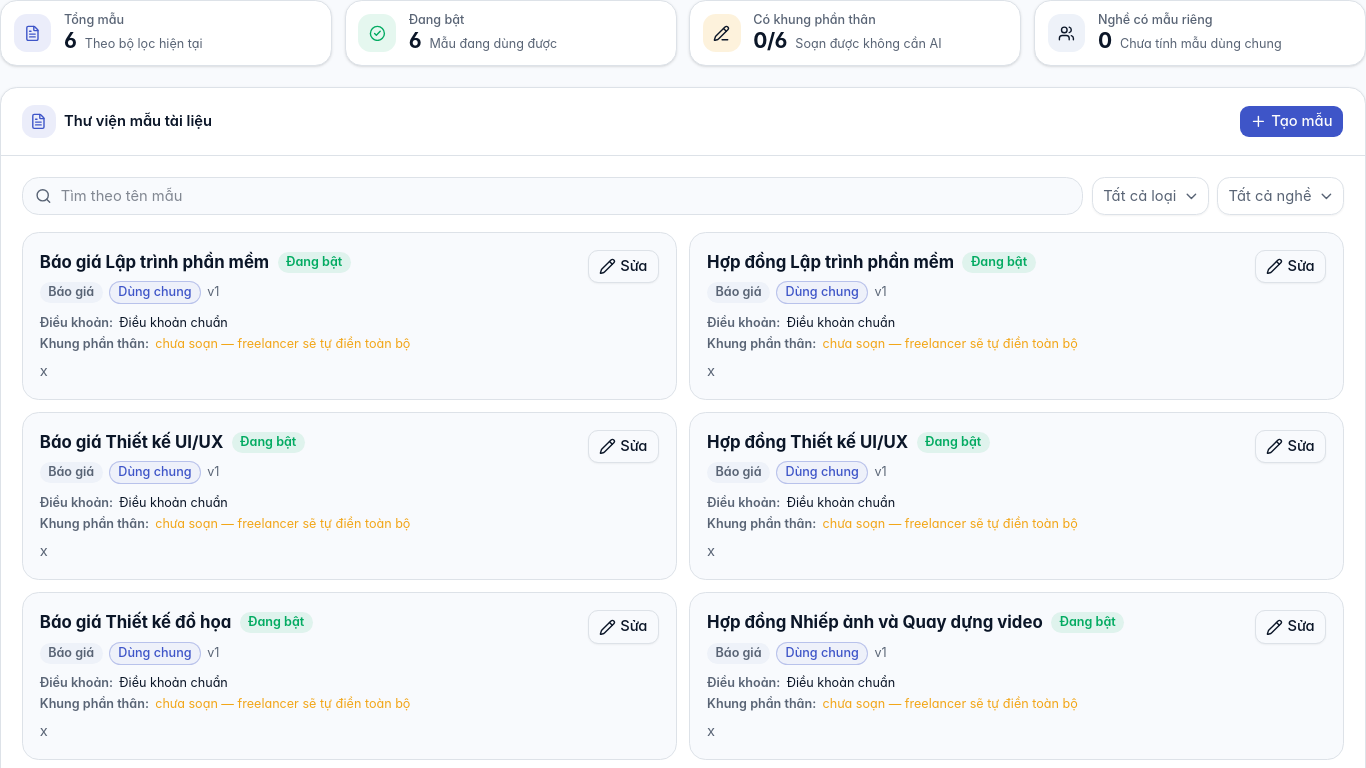
Test: <AdminTemplatesPage /> — tìm theo tên › không phân biệt hoa thường, khớp cả giữa tên
Type "UI/UX" into the field named "Tìm mẫu theo tên" at (553, 196), box [22,177,1083,215]
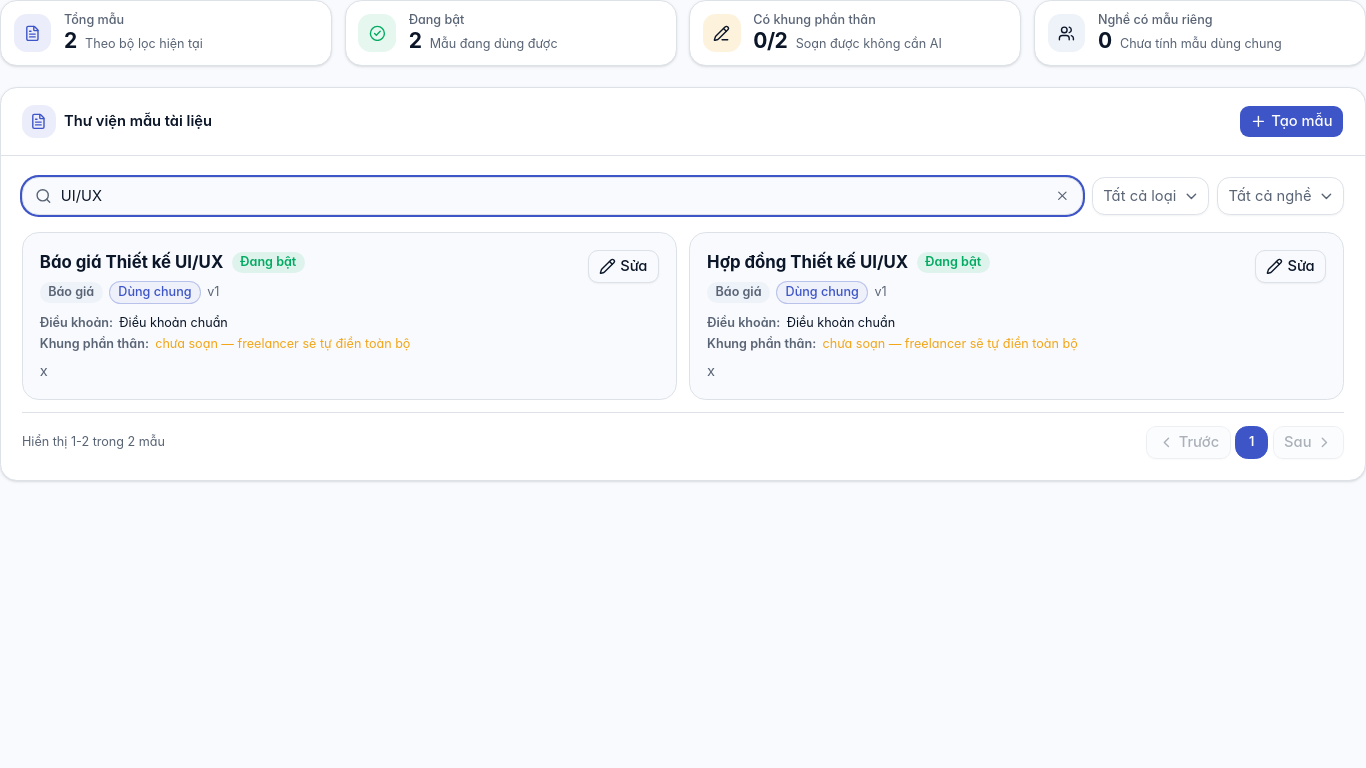
Expected: the heading "Báo giá Thiết kế UI/UX" is shown, [40,250,223,275]
Now the text "Hiển thị 1-2 trong 2 mẫu" is shown, box [22,434,165,451]
